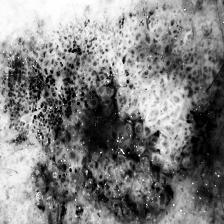Benign Marking or Mole: (7, 34, 220, 207)
